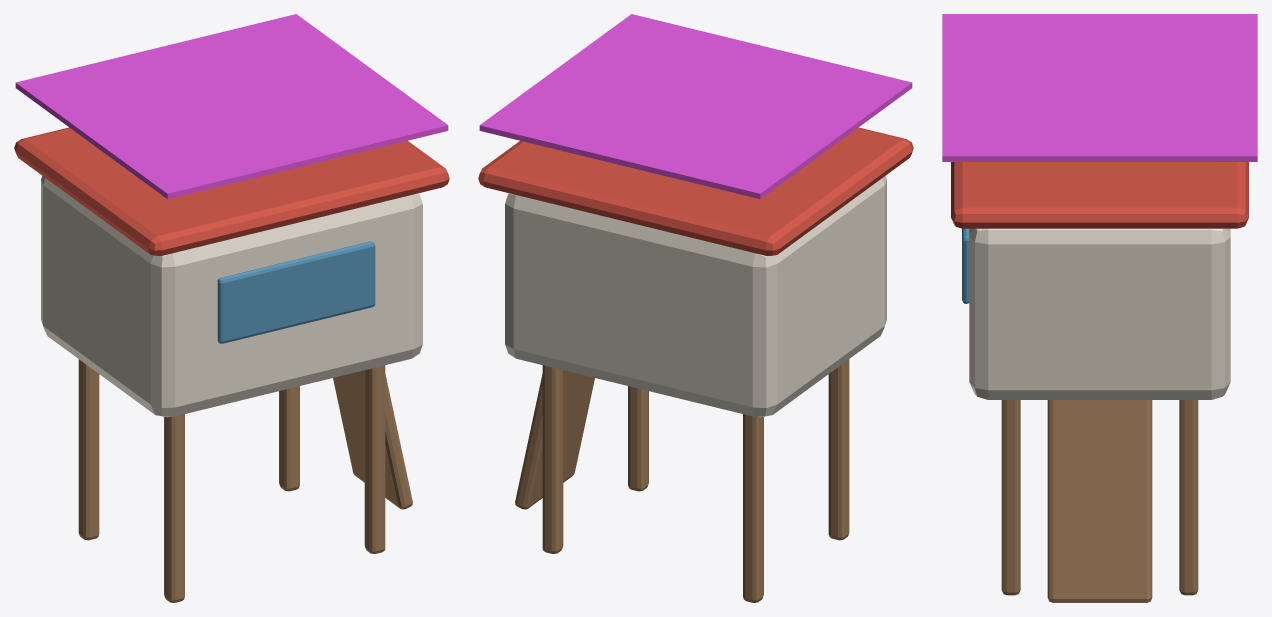
Rendered from lifeguard_tower_lod1_v1.glb.
3 renders of one model, left to right at view 1: azimuth 30°, elevation 25°; view 2: azimuth 150°, elevation 25°; view 3: azimuth 270°, elevation 25°, orthographic. The views are drawn at different scales.
Parts seen in each view (by area): view 1: LOD1_LIFEGUARD_TOWER_Cabin, NAV_MASK_LIFEGUARD_TOWER, LOD1_LIFEGUARD_TOWER_Roof, LOD1_LIFEGUARD_TOWER_Window, LOD1_LIFEGUARD_TOWER_Ladder, LOD1_LIFEGUARD_TOWER_Leg.002, LOD1_LIFEGUARD_TOWER_Leg, LOD1_LIFEGUARD_TOWER_Leg.001, LOD1_LIFEGUARD_TOWER_Leg.003; view 2: LOD1_LIFEGUARD_TOWER_Cabin, NAV_MASK_LIFEGUARD_TOWER, LOD1_LIFEGUARD_TOWER_Roof, LOD1_LIFEGUARD_TOWER_Ladder, LOD1_LIFEGUARD_TOWER_Leg.003, LOD1_LIFEGUARD_TOWER_Leg.001, LOD1_LIFEGUARD_TOWER_Leg, LOD1_LIFEGUARD_TOWER_Leg.002; view 3: NAV_MASK_LIFEGUARD_TOWER, LOD1_LIFEGUARD_TOWER_Cabin, LOD1_LIFEGUARD_TOWER_Ladder, LOD1_LIFEGUARD_TOWER_Roof, LOD1_LIFEGUARD_TOWER_Leg.002, LOD1_LIFEGUARD_TOWER_Leg.003, LOD1_LIFEGUARD_TOWER_Window.
Part boxes in pixels (x1,y1,x2,y2): LOD1_LIFEGUARD_TOWER_Cabin: (41, 176, 422, 417); NAV_MASK_LIFEGUARD_TOWER: (15, 14, 448, 199); LOD1_LIFEGUARD_TOWER_Roof: (14, 127, 449, 255); LOD1_LIFEGUARD_TOWER_Window: (217, 241, 375, 343); LOD1_LIFEGUARD_TOWER_Ladder: (333, 370, 412, 509); LOD1_LIFEGUARD_TOWER_Leg.002: (364, 365, 385, 553); LOD1_LIFEGUARD_TOWER_Leg: (164, 414, 184, 602); LOD1_LIFEGUARD_TOWER_Leg.001: (78, 359, 99, 540); LOD1_LIFEGUARD_TOWER_Leg.003: (279, 386, 299, 491); LOD1_LIFEGUARD_TOWER_Cabin: (505, 176, 886, 417); NAV_MASK_LIFEGUARD_TOWER: (479, 14, 912, 199); LOD1_LIFEGUARD_TOWER_Roof: (478, 127, 913, 255); LOD1_LIFEGUARD_TOWER_Ladder: (515, 370, 594, 509); LOD1_LIFEGUARD_TOWER_Leg.003: (542, 365, 563, 553); LOD1_LIFEGUARD_TOWER_Leg.001: (743, 414, 763, 602); LOD1_LIFEGUARD_TOWER_Leg: (828, 359, 849, 540); LOD1_LIFEGUARD_TOWER_Leg.002: (628, 386, 648, 491); NAV_MASK_LIFEGUARD_TOWER: (942, 14, 1257, 161); LOD1_LIFEGUARD_TOWER_Cabin: (969, 228, 1230, 399); LOD1_LIFEGUARD_TOWER_Ladder: (1047, 400, 1152, 602); LOD1_LIFEGUARD_TOWER_Roof: (951, 162, 1248, 228); LOD1_LIFEGUARD_TOWER_Leg.002: (1001, 400, 1020, 595); LOD1_LIFEGUARD_TOWER_Leg.003: (1179, 400, 1198, 595); LOD1_LIFEGUARD_TOWER_Window: (962, 228, 969, 303).
Size of what is drawn, in the model's own units: 3.53 by 4.83 by 3.02.
